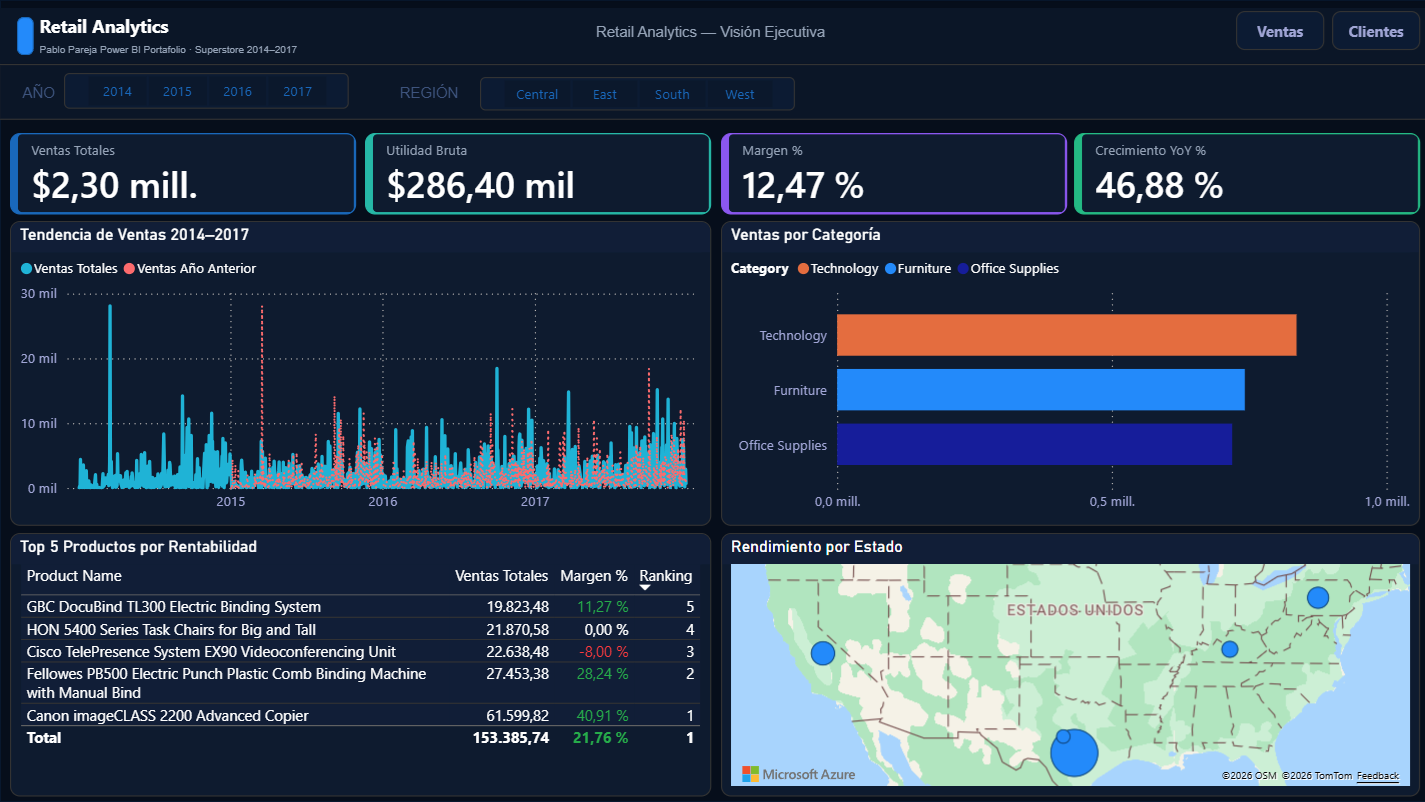

Layout of this report page (visuals, bound fields, positions):
{"tool":"powerbi","page":{"name":"Resumen Ejecutivo","canvas":[1280,720],"ordinal":0},"visuals":[{"type":"group","id":"g1","title":"Grupo 1","box":[0,0,1280,720],"z":0},{"type":"shape","box":[0,0,1279.7,720],"z":0,"group":"g1"},{"type":"shape","box":[0,57.8,1280,50],"z":1000},{"type":"textbox","box":[31.1,7.8,140,50],"z":2000},{"type":"shape","box":[0,7.8,1280,50],"z":2500,"group":"g1"},{"type":"cardVisual","fields":{"Data":["_Medidas.Utilidad Bruta"]},"box":[327.8,120,309.9,72.5],"z":3000},{"type":"cardVisual","fields":{"Data":["_Medidas.Margen %"]},"box":[646.6,120,309.9,72.5],"z":4000},{"type":"cardVisual","fields":{"Data":["_Medidas.Crecimiento YoY %"]},"box":[962.7,120,309.9,72.5],"z":5000},{"type":"lineChart","title":"Tendencia de Ventas 2014–2017","fields":{"Y":["_Medidas.Ventas Totales","_Medidas.Ventas Año Anterior"],"Category":["DimCalendario.Date"]},"box":[9.9,198.8,627.8,273.1],"z":6000},{"type":"barChart","title":"Ventas por Categoría","fields":{"Category":["DimProducto.Category"],"Y":["_Medidas.Ventas Totales"],"Series":["DimProducto.Category"]},"box":[646.6,198.8,626,273.1],"z":7000},{"type":"azureMap","title":"Rendimiento por Estado","fields":{"Category":["DimRegion.State"],"Size":["_Medidas.Ventas Totales"]},"box":[646.6,478.2,626,235.5],"z":8000},{"type":"tableEx","title":"Top 5 Productos por Rentabilidad","fields":{"Values":["DimProducto.Product Name","_Medidas.Ventas Totales","_Medidas.Margen %","_Medidas.Ranking Producto"]},"box":[9.9,478.2,627.8,235.5],"z":9000},{"type":"slicer","fields":{"Values":["DimCalendario.Año"]},"box":[58.2,66.3,255.2,32.2],"z":10000},{"type":"slicer","fields":{"Values":["DimRegion.Region"]},"box":[430.7,69.9,282.1,30.4],"z":11000},{"type":"actionButton","title":"Ventas","box":[1107.8,10.7,78.8,34.9],"z":12000},{"type":"actionButton","title":"Ventas","box":[1193.7,10.7,78.8,34.9],"z":13000},{"type":"cardVisual","fields":{"Data":["_Medidas.Ventas Totales"]},"box":[9.9,120,309.9,72.5],"z":14000},{"type":"textbox","box":[0,70,71.1,31.1],"z":15000},{"type":"shape","box":[15.8,15.8,15,34.2],"z":16000},{"type":"textbox","box":[459.4,15.2,355.5,34.9],"z":17000},{"type":"textbox","box":[344.8,69.9,80.6,31.3],"z":18000}]}

Visuals, with their boxes in screenshot pixels (x1, y1, x2, y2), scaled from the page's 1280x720 canvas onto the 1425x802 screenshot:
"Grupo 1" group: box=[0, 0, 1424, 801]
shape: box=[0, 0, 1424, 801]
shape: box=[0, 64, 1424, 120]
textbox: box=[35, 9, 190, 64]
shape: box=[0, 9, 1424, 64]
cardVisual - _Medidas.Utilidad Bruta: box=[365, 134, 710, 214]
cardVisual - _Medidas.Margen %: box=[720, 134, 1065, 214]
cardVisual - _Medidas.Crecimiento YoY %: box=[1072, 134, 1417, 214]
"Tendencia de Ventas 2014–2017" lineChart: box=[11, 221, 710, 526]
"Ventas por Categoría" barChart: box=[720, 221, 1417, 526]
"Rendimiento por Estado" azureMap: box=[720, 533, 1417, 795]
"Top 5 Productos por Rentabilidad" tableEx: box=[11, 533, 710, 795]
slicer - DimCalendario.Año: box=[65, 74, 349, 110]
slicer - DimRegion.Region: box=[479, 78, 794, 112]
"Ventas" actionButton: box=[1233, 12, 1321, 51]
"Ventas" actionButton: box=[1329, 12, 1417, 51]
cardVisual - _Medidas.Ventas Totales: box=[11, 134, 356, 214]
textbox: box=[0, 78, 79, 113]
shape: box=[18, 18, 34, 56]
textbox: box=[511, 17, 907, 56]
textbox: box=[384, 78, 474, 113]
